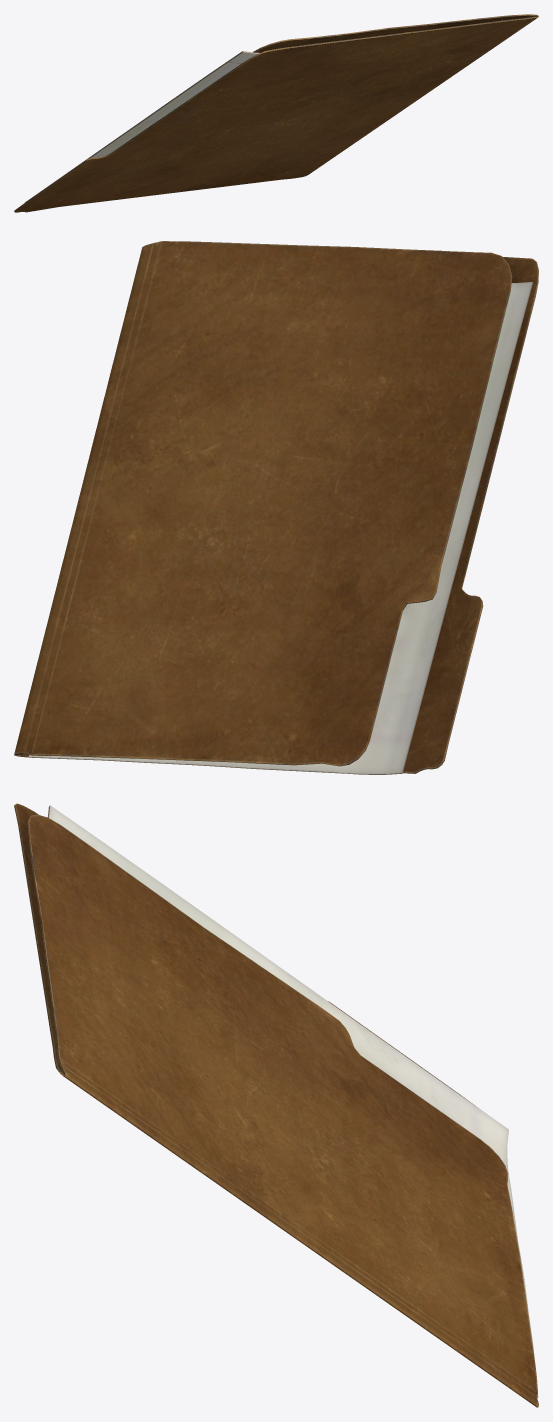
Rendered from document.glb.
3 renders of one model, top to bottom at view 1: azimuth 30°, elevation 25°; view 2: azimuth 150°, elevation 25°; view 3: azimuth 270°, elevation 25°, orthographic. The views are drawn at different scales.
Visible parts, largest first — view 1: Manilla Folder with Documents Flat.001; view 2: Manilla Folder with Documents Flat.001; view 3: Manilla Folder with Documents Flat.001.
Boxes of the visible parts, x1,y1,x2,y2 form: Manilla Folder with Documents Flat.001: (14, 14, 538, 212); Manilla Folder with Documents Flat.001: (14, 241, 538, 774); Manilla Folder with Documents Flat.001: (14, 803, 538, 1407).
Size of the model in its own units: 1.12 by 0.8789 by 0.9312.
Materials: 1 (1 with a texture image).
